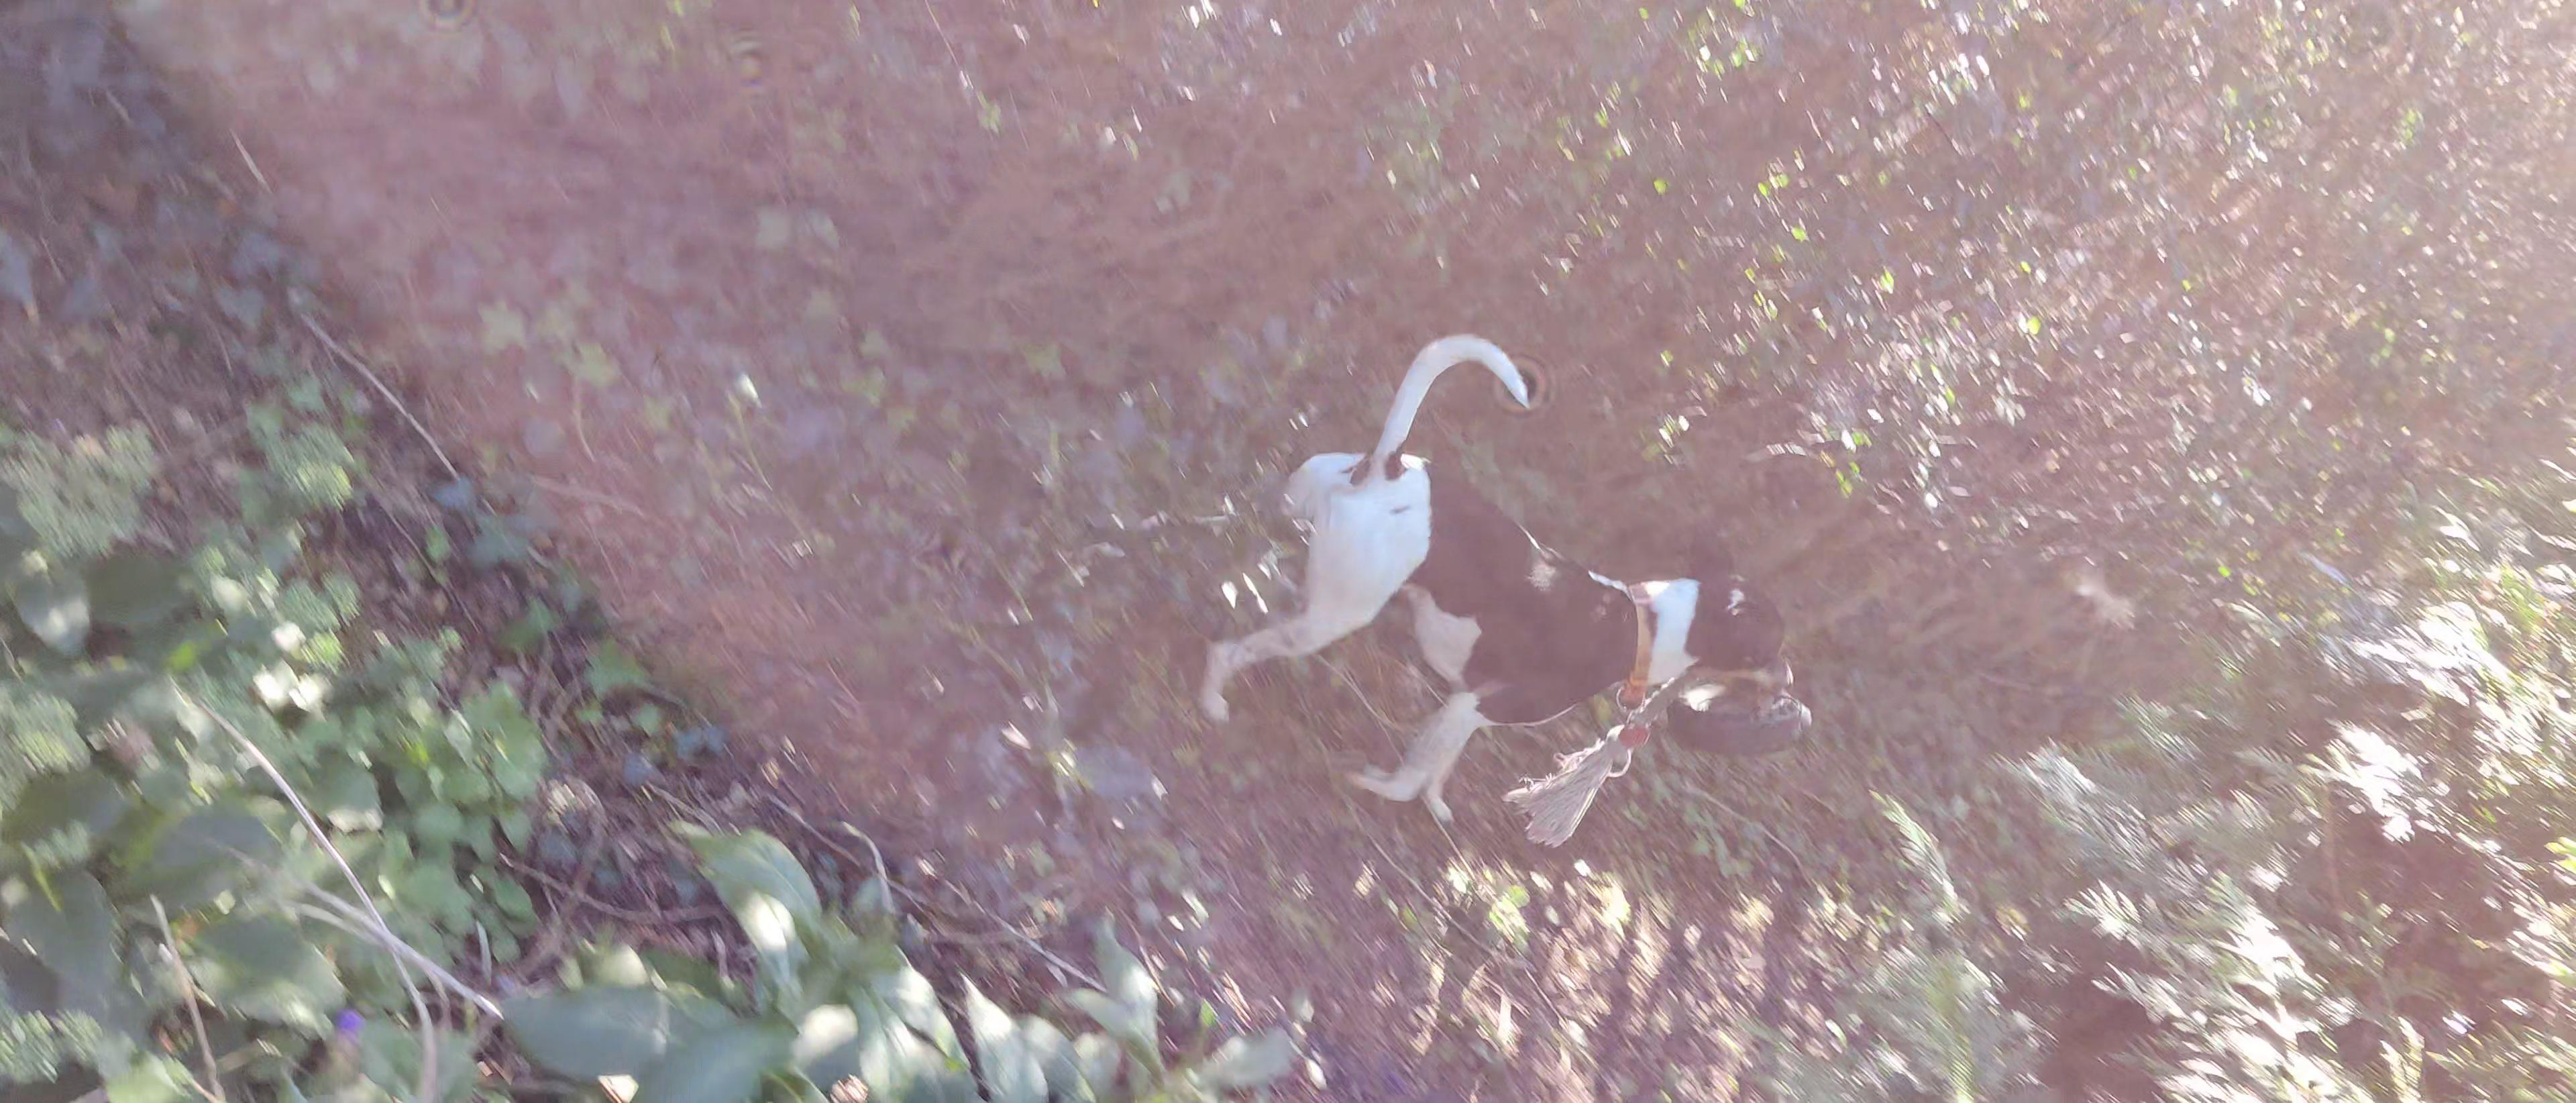Dog: (1155, 327, 1801, 825)
